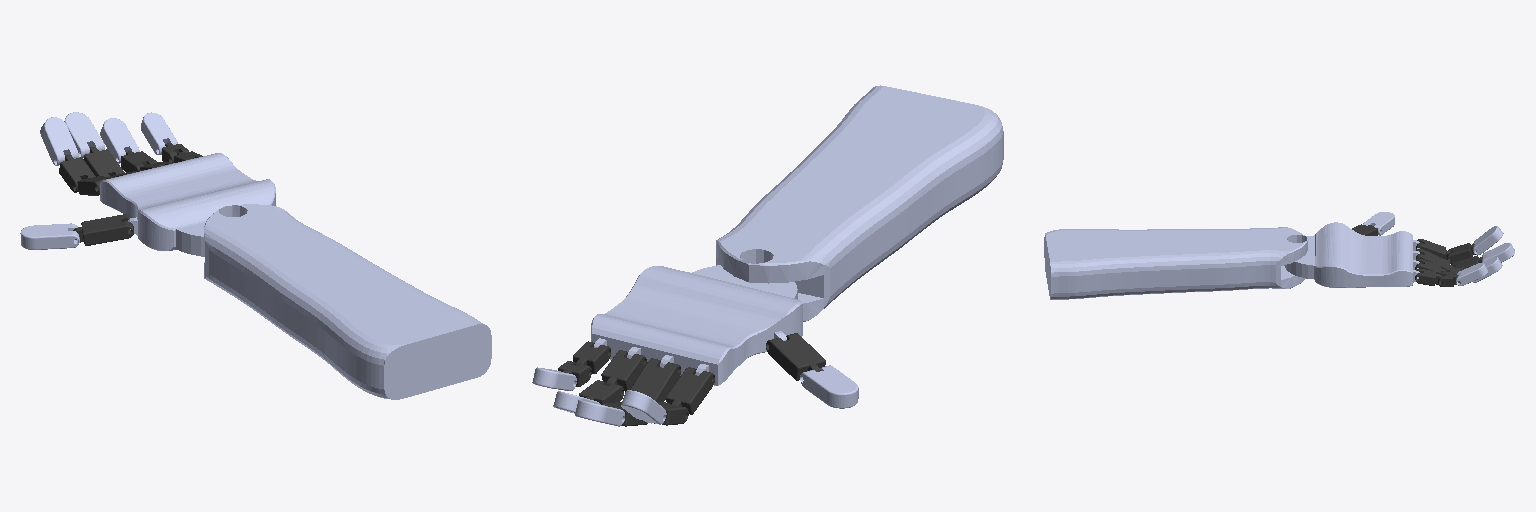
The robot description file, URDF, robot "hand_model":
<?xml version="1.0" encoding="utf-8"?>
<!-- This URDF was automatically created by SolidWorks to URDF Exporter! Originally created by [author] ([email redacted]) 
     Commit Version: 1.6.0-1-g15f4949  Build Version: 1.6.7594.29634
     For more information, please see http://wiki.ros.org/sw_urdf_exporter -->
<robot
  name="hand_model">
  <link
    name="base_link">
    <inertial>
      <origin
        xyz="0.052456 -2.0159 0.10611"
        rpy="0 0 0" />
      <mass
        value="735.46" />
      <inertia
        ixx="352.42"
        ixy="20.774"
        ixz="0.0032309"
        iyy="49.499"
        iyz="0.011357"
        izz="382.81" />
    </inertial>
    <visual>
      <origin
        xyz="0 0 0"
        rpy="0 0 0" />
      <geometry>
        <mesh
          filename="meshes/base_link.STL" />
      </geometry>
      <material
        name="">
        <color
          rgba="0.79216 0.81961 0.93333 1" />
      </material>
    </visual>
    <collision>
      <origin
        xyz="0 0 0"
        rpy="0 0 0" />
      <geometry>
        <mesh
          filename="meshes/base_link.STL" />
      </geometry>
    </collision>
  </link>
  <link
    name="palm_link">
    <inertial>
      <origin
        xyz="0.033073 0.10668 -0.55909"
        rpy="0 0 0" />
      <mass
        value="182.12" />
      <inertia
        ixx="19.088"
        ixy="0.036455"
        ixz="1.151"
        iyy="31.521"
        iyz="-0.38093"
        izz="13.566" />
    </inertial>
    <visual>
      <origin
        xyz="0 0 0"
        rpy="0 0 0" />
      <geometry>
        <mesh
          filename="meshes/palm_link.STL" />
      </geometry>
      <material
        name="">
        <color
          rgba="0.79216 0.81961 0.93333 1" />
      </material>
    </visual>
    <collision>
      <origin
        xyz="0 0 0"
        rpy="0 0 0" />
      <geometry>
        <mesh
          filename="meshes/palm_link.STL" />
      </geometry>
    </collision>
  </link>
  <joint
    name="wrist"
    type="continuous">
    <origin
      xyz="-0.0407022845002883 -0.689999999999996 0.00656838564770951"
      rpy="1.5707963267949 0 -0.00890076335310535" />
    <parent
      link="base_link" />
    <child
      link="palm_link" />
    <axis
      xyz="0 1 0" />
  </joint>
  <link
    name="thumb_link">
    <inertial>
      <origin
        xyz="0.0583211409604228 0.173750872293611 -1.0568241727682E-05"
        rpy="0 0 0" />
      <mass
        value="6.47757871603702" />
      <inertia
        ixx="0.066710034410787"
        ixy="-1.00908741501593E-08"
        ixz="7.18235875721979E-10"
        iyy="0.0267709057361753"
        iyz="-8.31808962508795E-06"
        izz="0.0827471728041189" />
    </inertial>
    <visual>
      <origin
        xyz="0 0 0"
        rpy="0 0 0" />
      <geometry>
        <mesh
          filename="meshes/thumb_link.STL" />
      </geometry>
      <material
        name="">
        <color
          rgba="0.298039215686275 0.298039215686275 0.298039215686275 1" />
      </material>
    </visual>
    <collision>
      <origin
        xyz="0 0 0"
        rpy="0 0 0" />
      <geometry>
        <mesh
          filename="meshes/thumb_link.STL" />
      </geometry>
    </collision>
  </link>
  <joint
    name="thumb_palm"
    type="continuous">
    <origin
      xyz="-0.523008997433875 0.0804178268004505 -0.499404989881378"
      rpy="-1.74697481527175 1.10178968409712 0" />
    <parent
      link="palm_link" />
    <child
      link="thumb_link" />
    <axis
      xyz="1 0 0" />
  </joint>
  <link
    name="thumb_top_link">
    <inertial>
      <origin
        xyz="0.0585211412178711 0.18196595438193 -1.00513642356734E-05"
        rpy="0 0 0" />
      <mass
        value="6.8067193219922" />
      <inertia
        ixx="0.075982777275474"
        ixy="-9.74255523391448E-09"
        ixz="3.03012642212906E-10"
        iyy="0.0276285552963208"
        iyz="-8.82753070973629E-06"
        izz="0.0923367042054285" />
    </inertial>
    <visual>
      <origin
        xyz="0 0 0"
        rpy="0 0 0" />
      <geometry>
        <mesh
          filename="meshes/thumb_top_link.STL" />
      </geometry>
      <material
        name="">
        <color
          rgba="0.792156862745098 0.819607843137255 0.933333333333333 1" />
      </material>
    </visual>
    <collision>
      <origin
        xyz="0 0 0"
        rpy="0 0 0" />
      <geometry>
        <mesh
          filename="meshes/thumb_top_link.STL" />
      </geometry>
    </collision>
  </link>
  <joint
    name="thumb_finger_joint1"
    type="continuous">
    <origin
      xyz="0 0.376 0"
      rpy="0.137909370299002 0 0" />
    <parent
      link="thumb_link" />
    <child
      link="thumb_top_link" />
    <axis
      xyz="1 0 0" />
  </joint>
  <link
    name="index_Link">
    <inertial>
      <origin
        xyz="-0.0895117448846556 0.150984996742904 -1.46962151200691E-05"
        rpy="0 0 0" />
      <mass
        value="4.65304877999396" />
      <inertia
        ixx="0.0364961941236856"
        ixy="-3.71418203341085E-09"
        ixz="-8.22434564272086E-10"
        iyy="0.0149411534239804"
        iyz="-6.93591709387742E-06"
        izz="0.043734471629931" />
    </inertial>
    <visual>
      <origin
        xyz="0 0 0"
        rpy="0 0 0" />
      <geometry>
        <mesh
          filename="meshes/index_Link.STL" />
      </geometry>
      <material
        name="">
        <color
          rgba="0.298039215686275 0.298039215686275 0.298039215686275 1" />
      </material>
    </visual>
    <collision>
      <origin
        xyz="0 0 0"
        rpy="0 0 0" />
      <geometry>
        <mesh
          filename="meshes/index_Link.STL" />
      </geometry>
    </collision>
  </link>
  <joint
    name="index_palm"
    type="continuous">
    <origin
      xyz="-0.22804714819455 0.0804178268004546 -1.18100000000001"
      rpy="-1.94163099870294 0 0" />
    <parent
      link="palm_link" />
    <child
      link="index_Link" />
    <axis
      xyz="1 0 0" />
  </joint>
  <link
    name="index_mid_Link">
    <inertial>
      <origin
        xyz="-0.0891030233864157 0.125917463818585 -1.79756501640926E-05"
        rpy="0 0 0" />
      <mass
        value="3.80733854469799" />
      <inertia
        ixx="0.0219492247388545"
        ixy="-8.26517742386014E-09"
        ixz="-4.12725268451343E-10"
        iyy="0.0122249611057145"
        iyz="-5.39200278269389E-06"
        izz="0.0278683596848671" />
    </inertial>
    <visual>
      <origin
        xyz="0 0 0"
        rpy="0 0 0" />
      <geometry>
        <mesh
          filename="meshes/index_mid_Link.STL" />
      </geometry>
      <material
        name="">
        <color
          rgba="0.298039215686275 0.298039215686275 0.298039215686275 1" />
      </material>
    </visual>
    <collision>
      <origin
        xyz="0 0 0"
        rpy="0 0 0" />
      <geometry>
        <mesh
          filename="meshes/index_mid_Link.STL" />
      </geometry>
    </collision>
  </link>
  <joint
    name="index_finger_joint1"
    type="continuous">
    <origin
      xyz="-0.00060871447869093 0.326000000000002 0"
      rpy="0.702981876530976 0 0" />
    <parent
      link="index_Link" />
    <child
      link="index_mid_Link" />
    <axis
      xyz="1 0 0" />
  </joint>
  <link
    name="index_top_Link">
    <inertial>
      <origin
        xyz="-0.0889334703937087 0.151845872213121 -1.45652909617766E-05"
        rpy="0 0 0" />
      <mass
        value="4.69702723307249" />
      <inertia
        ixx="0.0366670220904177"
        ixy="-5.79987038292471E-09"
        ixz="2.56579029046409E-10"
        iyy="0.0149637358573457"
        iyz="-6.9853290293677E-06"
        izz="0.0438601528135111" />
    </inertial>
    <visual>
      <origin
        xyz="0 0 0"
        rpy="0 0 0" />
      <geometry>
        <mesh
          filename="meshes/index_top_Link.STL" />
      </geometry>
      <material
        name="">
        <color
          rgba="0.792156862745098 0.819607843137255 0.933333333333333 1" />
      </material>
    </visual>
    <collision>
      <origin
        xyz="0 0 0"
        rpy="0 0 0" />
      <geometry>
        <mesh
          filename="meshes/index_top_Link.STL" />
      </geometry>
    </collision>
  </link>
  <joint
    name="index_finger_joint2"
    type="continuous">
    <origin
      xyz="-0.000369553072763207 0.276 0"
      rpy="0.37375201122012 0 0" />
    <parent
      link="index_mid_Link" />
    <child
      link="index_top_Link" />
    <axis
      xyz="1 0 0" />
  </joint>
  <link
    name="middle_Link">
    <inertial>
      <origin
        xyz="-0.0775588935168185 0.174430532090828 -1.11140246791264E-05"
        rpy="0 0 0" />
      <mass
        value="6.15130656230038" />
      <inertia
        ixx="0.0634331507494948"
        ixy="-1.16548782140184E-08"
        ixz="8.65538356834223E-10"
        iyy="0.0234303176824209"
        iyz="-8.36131817532303E-06"
        izz="0.0766743128886783" />
    </inertial>
    <visual>
      <origin
        xyz="0 0 0"
        rpy="0 0 0" />
      <geometry>
        <mesh
          filename="meshes/middle_Link.STL" />
      </geometry>
      <material
        name="">
        <color
          rgba="0.298039215686275 0.298039215686275 0.298039215686275 1" />
      </material>
    </visual>
    <collision>
      <origin
        xyz="0 0 0"
        rpy="0 0 0" />
      <geometry>
        <mesh
          filename="meshes/middle_Link.STL" />
      </geometry>
    </collision>
  </link>
  <joint
    name="middle_palm"
    type="continuous">
    <origin
      xyz="0 0.080417826800454 -1.18100000000001"
      rpy="-2.02521229757416 0 0" />
    <parent
      link="palm_link" />
    <child
      link="middle_Link" />
    <axis
      xyz="1 0 0" />
  </joint>
  <link
    name="middle_mid_Link">
    <inertial>
      <origin
        xyz="-0.0773588868797277 0.149378250277068 -1.31476685010234E-05"
        rpy="0 0 0" />
      <mass
        value="5.20559573622676" />
      <inertia
        ixx="0.040676208942748"
        ixy="-1.30283680467504E-08"
        ixz="-4.94948432296105E-10"
        iyy="0.0198274885881821"
        iyz="-6.82301212607357E-06"
        izz="0.0518782639547025" />
    </inertial>
    <visual>
      <origin
        xyz="0 0 0"
        rpy="0 0 0" />
      <geometry>
        <mesh
          filename="meshes/middle_mid_Link.STL" />
      </geometry>
      <material
        name="">
        <color
          rgba="0.298039215686275 0.298039215686275 0.298039215686275 1" />
      </material>
    </visual>
    <collision>
      <origin
        xyz="0 0 0"
        rpy="0 0 0" />
      <geometry>
        <mesh
          filename="meshes/middle_mid_Link.STL" />
      </geometry>
    </collision>
  </link>
  <joint
    name="middle_finger_joint1"
    type="continuous">
    <origin
      xyz="0 0.376000000000001 0"
      rpy="0.794436157281628 0 0" />
    <parent
      link="middle_Link" />
    <child
      link="middle_mid_Link" />
    <axis
      xyz="1 0 0" />
  </joint>
  <link
    name="middle_top_Link">
    <inertial>
      <origin
        xyz="-0.0775588869211938 0.155178084349383 -1.25946103027852E-05"
        rpy="0 0 0" />
      <mass
        value="5.43182939965056" />
      <inertia
        ixx="0.0449837527864949"
        ixy="-7.45345717010324E-09"
        ixz="3.61017876062005E-10"
        iyy="0.0203442924201257"
        iyz="-7.18888681538327E-06"
        izz="0.05633254856514" />
    </inertial>
    <visual>
      <origin
        xyz="0 0 0"
        rpy="0 0 0" />
      <geometry>
        <mesh
          filename="meshes/middle_top_Link.STL" />
      </geometry>
      <material
        name="">
        <color
          rgba="0.792156862745098 0.819607843137255 0.933333333333333 1" />
      </material>
    </visual>
    <collision>
      <origin
        xyz="0 0 0"
        rpy="0 0 0" />
      <geometry>
        <mesh
          filename="meshes/middle_top_Link.STL" />
      </geometry>
    </collision>
  </link>
  <joint
    name="middle_finger_joint2"
    type="continuous">
    <origin
      xyz="0 0.326 0"
      rpy="0.14504 0 0" />
    <parent
      link="middle_mid_Link" />
    <child
      link="middle_top_Link" />
    <axis
      xyz="1 0 0" />
  </joint>
  <link
    name="ring_Link">
    <inertial>
      <origin
        xyz="0.0960915535849295 0.125917463800899 -1.79757202804498E-05"
        rpy="0 0 0" />
      <mass
        value="3.80733854451187" />
      <inertia
        ixx="0.0219492247988821"
        ixy="-3.07090627642851E-09"
        ixz="-3.92872722954063E-10"
        iyy="0.0122249611440997"
        iyz="-5.4011156421529E-06"
        izz="0.027868359747534" />
    </inertial>
    <visual>
      <origin
        xyz="0 0 0"
        rpy="0 0 0" />
      <geometry>
        <mesh
          filename="meshes/ring_Link.STL" />
      </geometry>
      <material
        name="">
        <color
          rgba="0.298039215686275 0.298039215686275 0.298039215686275 1" />
      </material>
    </visual>
    <collision>
      <origin
        xyz="0 0 0"
        rpy="0 0 0" />
      <geometry>
        <mesh
          filename="meshes/ring_Link.STL" />
      </geometry>
    </collision>
  </link>
  <joint
    name="ring_palm"
    type="continuous">
    <origin
      xyz="0.0499999999999973 0.080417826800454 -1.18100000000001"
      rpy="-1.93281935940357 0 0" />
    <parent
      link="palm_link" />
    <child
      link="ring_Link" />
    <axis
      xyz="1 0 0" />
  </joint>
  <link
    name="ring_mid_Link">
    <inertial>
      <origin
        xyz="0.0889902524601388 0.125917463818901 -1.79756899238298E-05"
        rpy="0 0 0" />
      <mass
        value="3.8073385446472" />
      <inertia
        ixx="0.0219492116432215"
        ixy="-5.69095821823743E-09"
        ixz="-1.47454084357904E-09"
        iyy="0.012224959060232"
        iyz="-5.39654250242922E-06"
        izz="0.0278683474793665" />
    </inertial>
    <visual>
      <origin
        xyz="0 0 0"
        rpy="0 0 0" />
      <geometry>
        <mesh
          filename="meshes/ring_mid_Link.STL" />
      </geometry>
      <material
        name="">
        <color
          rgba="0.298039215686275 0.298039215686275 0.298039215686275 1" />
      </material>
    </visual>
    <collision>
      <origin
        xyz="0 0 0"
        rpy="0 0 0" />
      <geometry>
        <mesh
          filename="meshes/ring_mid_Link.STL" />
      </geometry>
    </collision>
  </link>
  <joint
    name="ring_finger_joint1"
    type="continuous">
    <origin
      xyz="0.00730130112550688 0.276000000000004 0"
      rpy="0.338523687330689 0 0" />
    <parent
      link="ring_Link" />
    <child
      link="ring_mid_Link" />
    <axis
      xyz="1 0 0" />
  </joint>
  <link
    name="ring_top_Link">
    <inertial>
      <origin
        xyz="0.089117736388319 0.151845872486246 -1.45651650549361E-05"
        rpy="0 0 0" />
      <mass
        value="4.69702722195169" />
      <inertia
        ixx="0.0366670219730893"
        ixy="-5.7462778554955E-09"
        ixz="2.80296628531814E-10"
        iyy="0.0149637358445387"
        iyz="-6.98526079909341E-06"
        izz="0.0438601526716229" />
    </inertial>
    <visual>
      <origin
        xyz="0 0 0"
        rpy="0 0 0" />
      <geometry>
        <mesh
          filename="meshes/ring_top_Link.STL" />
      </geometry>
      <material
        name="">
        <color
          rgba="0.792156862745098 0.819607843137255 0.933333333333333 1" />
      </material>
    </visual>
    <collision>
      <origin
        xyz="0 0 0"
        rpy="0 0 0" />
      <geometry>
        <mesh
          filename="meshes/ring_top_Link.STL" />
      </geometry>
    </collision>
  </link>
  <joint
    name="ring_finger_joint2"
    type="continuous">
    <origin
      xyz="7.2516E-05 0.276 0"
      rpy="0.54187 0 0" />
    <parent
      link="ring_mid_Link" />
    <child
      link="ring_top_Link" />
    <axis
      xyz="1 0 0" />
  </joint>
  <link
    name="little_Link">
    <inertial>
      <origin
        xyz="0.0786469068891441 0.10287821601027 -2.62304138684832E-05"
        rpy="0 0 0" />
      <mass
        value="2.60908152503793" />
      <inertia
        ixx="0.010801877603534"
        ixy="-3.34579613299956E-09"
        ixz="-1.06293661220417E-09"
        iyy="0.00699045752408184"
        iyz="-3.98836075019026E-06"
        izz="0.0134727854714726" />
    </inertial>
    <visual>
      <origin
        xyz="0 0 0"
        rpy="0 0 0" />
      <geometry>
        <mesh
          filename="meshes/little_Link.STL" />
      </geometry>
      <material
        name="">
        <color
          rgba="0.298039215686275 0.298039215686275 0.298039215686275 1" />
      </material>
    </visual>
    <collision>
      <origin
        xyz="0 0 0"
        rpy="0 0 0" />
      <geometry>
        <mesh
          filename="meshes/little_Link.STL" />
      </geometry>
    </collision>
  </link>
  <joint
    name="little_palm"
    type="continuous">
    <origin
      xyz="0.297444647399156 0.0804178268004545 -1.18100000000001"
      rpy="-1.75471772732245 0 0" />
    <parent
      link="palm_link" />
    <child
      link="little_Link" />
    <axis
      xyz="1 0 0" />
  </joint>
  <link
    name="little_mid_Link">
    <inertial>
      <origin
        xyz="0.0780878080609607 0.0777171046498477 -3.67259529781699E-05"
        rpy="0 0 0" />
      <mass
        value="1.8633745178554" />
      <inertia
        ixx="0.00541773686778041"
        ixy="-2.19205383324963E-09"
        ixz="4.59631144317318E-10"
        iyy="0.00499175789357438"
        iyz="-2.45009465538378E-06"
        izz="0.00732032721276968" />
    </inertial>
    <visual>
      <origin
        xyz="0 0 0"
        rpy="0 0 0" />
      <geometry>
        <mesh
          filename="meshes/little_mid_Link.STL" />
      </geometry>
      <material
        name="">
        <color
          rgba="0.298039215686275 0.298039215686275 0.298039215686275 1" />
      </material>
    </visual>
    <collision>
      <origin
        xyz="0 0 0"
        rpy="0 0 0" />
      <geometry>
        <mesh
          filename="meshes/little_mid_Link.STL" />
      </geometry>
    </collision>
  </link>
  <joint
    name="little_finger_joint1"
    type="continuous">
    <origin
      xyz="0.000759098022390492 0.226000000000002 0"
      rpy="0.192675774139707 0 0" />
    <parent
      link="little_Link" />
    <child
      link="little_mid_Link" />
    <axis
      xyz="1 0 0" />
  </joint>
  <link
    name="little_top_Link">
    <inertial>
      <origin
        xyz="0.0790777457889324 0.148736186432886 -1.71307286805367E-05"
        rpy="0 0 0" />
      <mass
        value="3.99364097034048" />
      <inertia
        ixx="0.0292784936131837"
        ixy="-4.2698600285243E-09"
        ixz="2.16334064289563E-10"
        iyy="0.0107133514491663"
        iyz="-6.79522379971832E-06"
        izz="0.033393771594786" />
    </inertial>
    <visual>
      <origin
        xyz="0 0 0"
        rpy="0 0 0" />
      <geometry>
        <mesh
          filename="meshes/little_top_Link.STL" />
      </geometry>
      <material
        name="">
        <color
          rgba="0.792156862745098 0.819607843137255 0.933333333333333 1" />
      </material>
    </visual>
    <collision>
      <origin
        xyz="0 0 0"
        rpy="0 0 0" />
      <geometry>
        <mesh
          filename="meshes/little_top_Link.STL" />
      </geometry>
    </collision>
  </link>
  <joint
    name="little_finger_joint2"
    type="continuous">
    <origin
      xyz="-0.000789936725883233 0.176 0"
      rpy="0.443039889232053 0 0" />
    <parent
      link="little_mid_Link" />
    <child
      link="little_top_Link" />
    <axis
      xyz="1 0 0" />
  </joint>
</robot>

--- Render facts (derived) ---
Views: 3 orthographic renders of the robot side by side, from view 1: azimuth 30°, elevation 25°; view 2: azimuth 150°, elevation 25°; view 3: azimuth 270°, elevation 25°.
Robot: hand_model — 16 links, 15 joints (15 continuous); root link base_link; default pose: all joints at 0.
Links seen in each view (by area): view 1: base_link, palm_link, thumb_top_link, thumb_link, index_top_Link, middle_top_Link, ring_top_Link, little_top_Link, middle_mid_Link, index_mid_Link; view 2: base_link, palm_link, thumb_top_link, thumb_link, index_Link, middle_Link, ring_Link, index_top_Link, middle_top_Link, little_Link, little_top_Link, ring_mid_Link; view 3: base_link, palm_link.
Link boxes in pixels (x1,y1,x2,y2): base_link: (204,204,491,399); palm_link: (100,153,275,256); thumb_top_link: (20,223,79,249); thumb_link: (73,214,133,245); index_top_Link: (40,117,78,165); middle_top_Link: (64,112,104,157); ring_top_Link: (100,118,139,163); little_top_Link: (141,112,177,154); middle_mid_Link: (83,147,124,176); index_mid_Link: (59,155,95,192); base_link: (716,85,1003,321); palm_link: (591,265,802,385); thumb_top_link: (800,365,858,408); thumb_link: (766,333,825,380); index_Link: (666,367,714,414); middle_Link: (630,358,680,401); ring_Link: (601,350,646,391); index_top_Link: (621,390,666,424); middle_top_Link: (575,400,624,426); little_Link: (573,341,610,373); little_top_Link: (532,367,576,390); ring_mid_Link: (579,380,623,404); base_link: (1044,227,1307,299); palm_link: (1284,222,1419,287).
Size in the robot's own frame: 1.81 by 4.6 by 0.433 metres.
Meshes: 16 distinct files referenced, 16 mesh visuals loaded (16 binary STL).